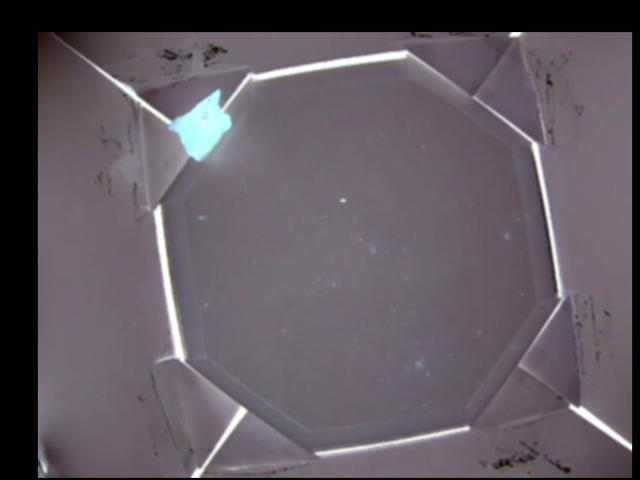Brisk: (166, 90, 231, 160)
